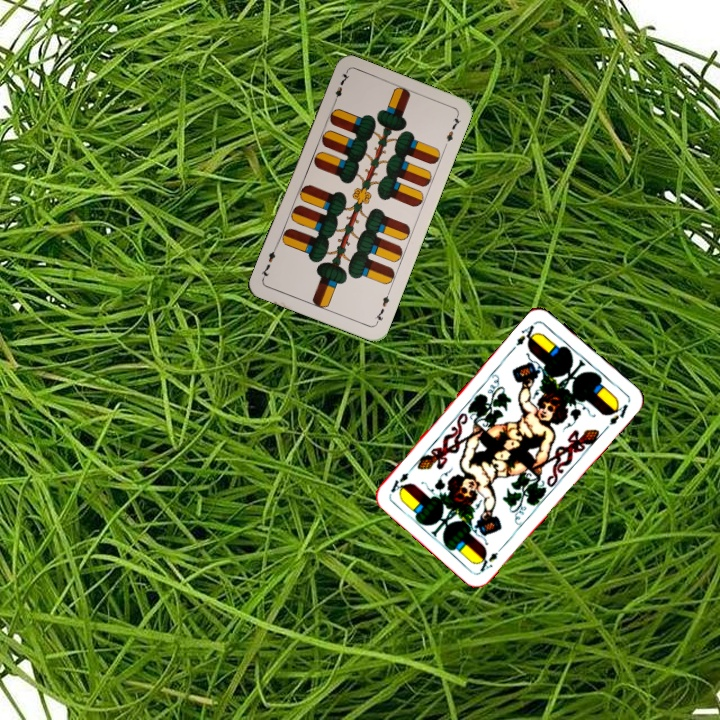E7: (329, 68, 352, 107), (371, 287, 393, 326)
EA: (474, 541, 507, 574), (512, 318, 540, 349)
